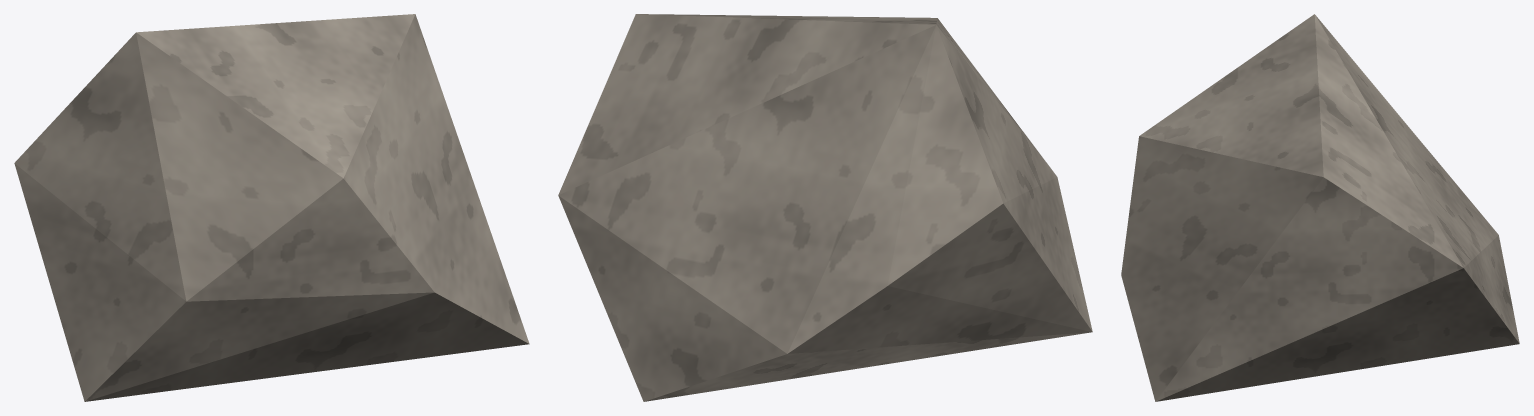
Rendered from rock_a.glb.
3 views of the same model, side by side, from view 1: azimuth 30°, elevation 25°; view 2: azimuth 150°, elevation 25°; view 3: azimuth 270°, elevation 25° (orthographic). The views are drawn at different scales.
Parts seen in each view (by area): view 1: RockA; view 2: RockA; view 3: RockA.
Boxes of the visible parts, x1=… form: RockA: x1=14, y1=14, x2=529, y2=401; RockA: x1=558, y1=14, x2=1092, y2=401; RockA: x1=1121, y1=14, x2=1519, y2=401.
Bounding box in the file's own units: 1.24 × 0.9315 × 1.27.
Materials: 1 (1 with a texture image).
